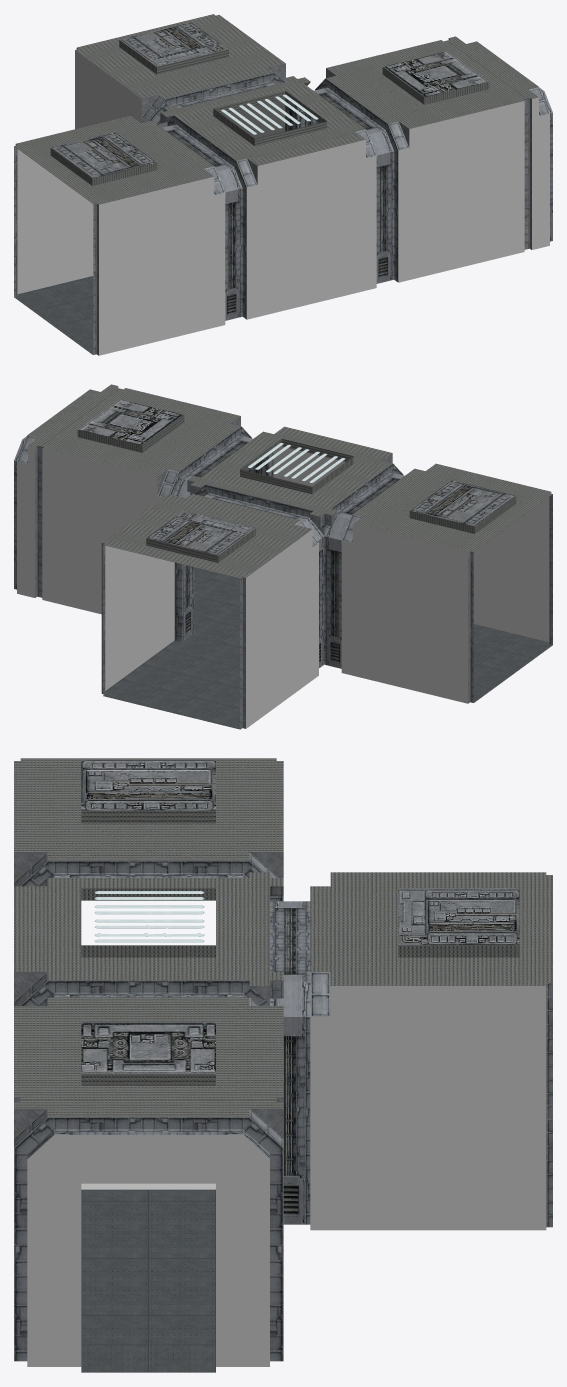
Rendered from poi_all_impl_bunker_small_outpost_s01_r8_intersection_mesh.fbx.
3 renders of one model, top to bottom at view 1: azimuth 30°, elevation 25°; view 2: azimuth 150°, elevation 25°; view 3: azimuth 270°, elevation 25°, orthographic. The views are drawn at different scales.
Visible parts, largest first — view 1: mesh_node; view 2: mesh_node; view 3: mesh_node.
Boxes of the visible parts, bbox=[...] form: mesh_node: bbox=[14, 14, 552, 355]; mesh_node: bbox=[14, 384, 552, 729]; mesh_node: bbox=[14, 758, 552, 1372].
Size of the model in its own units: 13 by 4.2 by 8.
